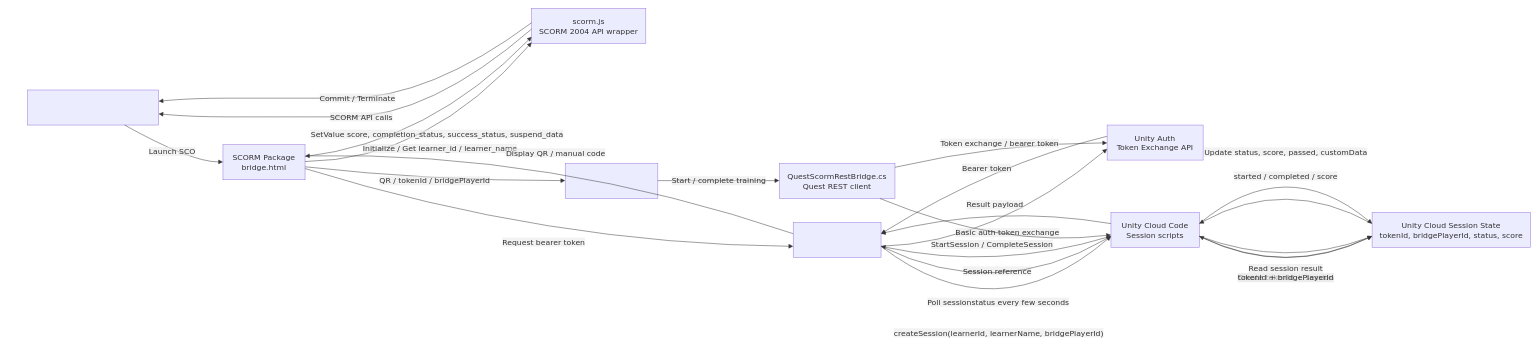
This 1539x346 diagram has some shape labels left out. The centre of each missing label's shape, as x and y in pixels:
"LMS / SCORM Cloud Authenticated learner session" belongs at [93,107].
"Meta Quest Device Unity VR App" belongs at [611,180].
"unity-rest.js Unity REST client" belongs at [837,240].
